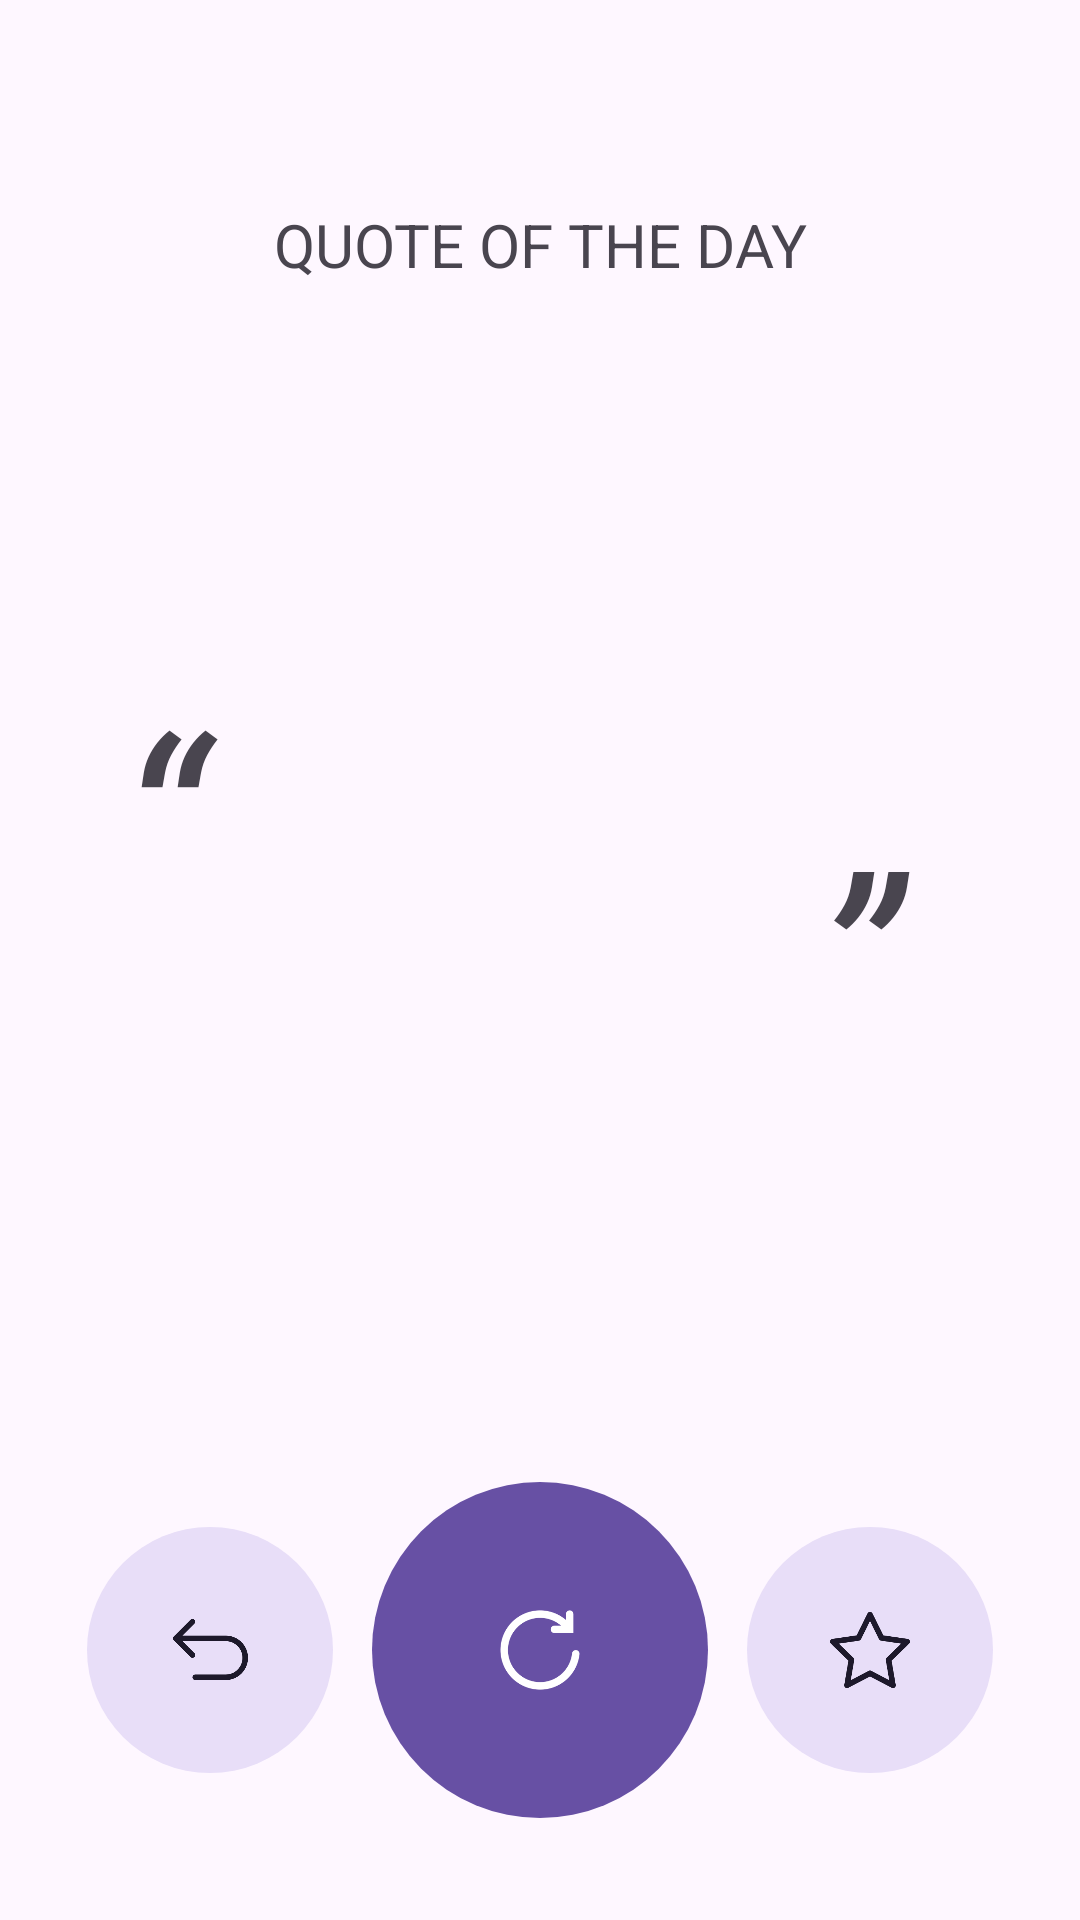

Where to tap for icons on this 1080*1920 app screen, as (x,y):
back: (210,1650)
refresh: (540,1650)
star: (870,1650)
